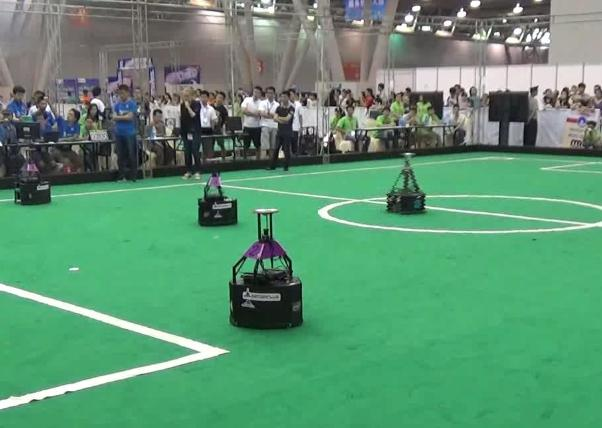robot: (228, 204, 308, 330), (383, 150, 432, 219), (194, 155, 240, 228), (10, 147, 53, 206)
